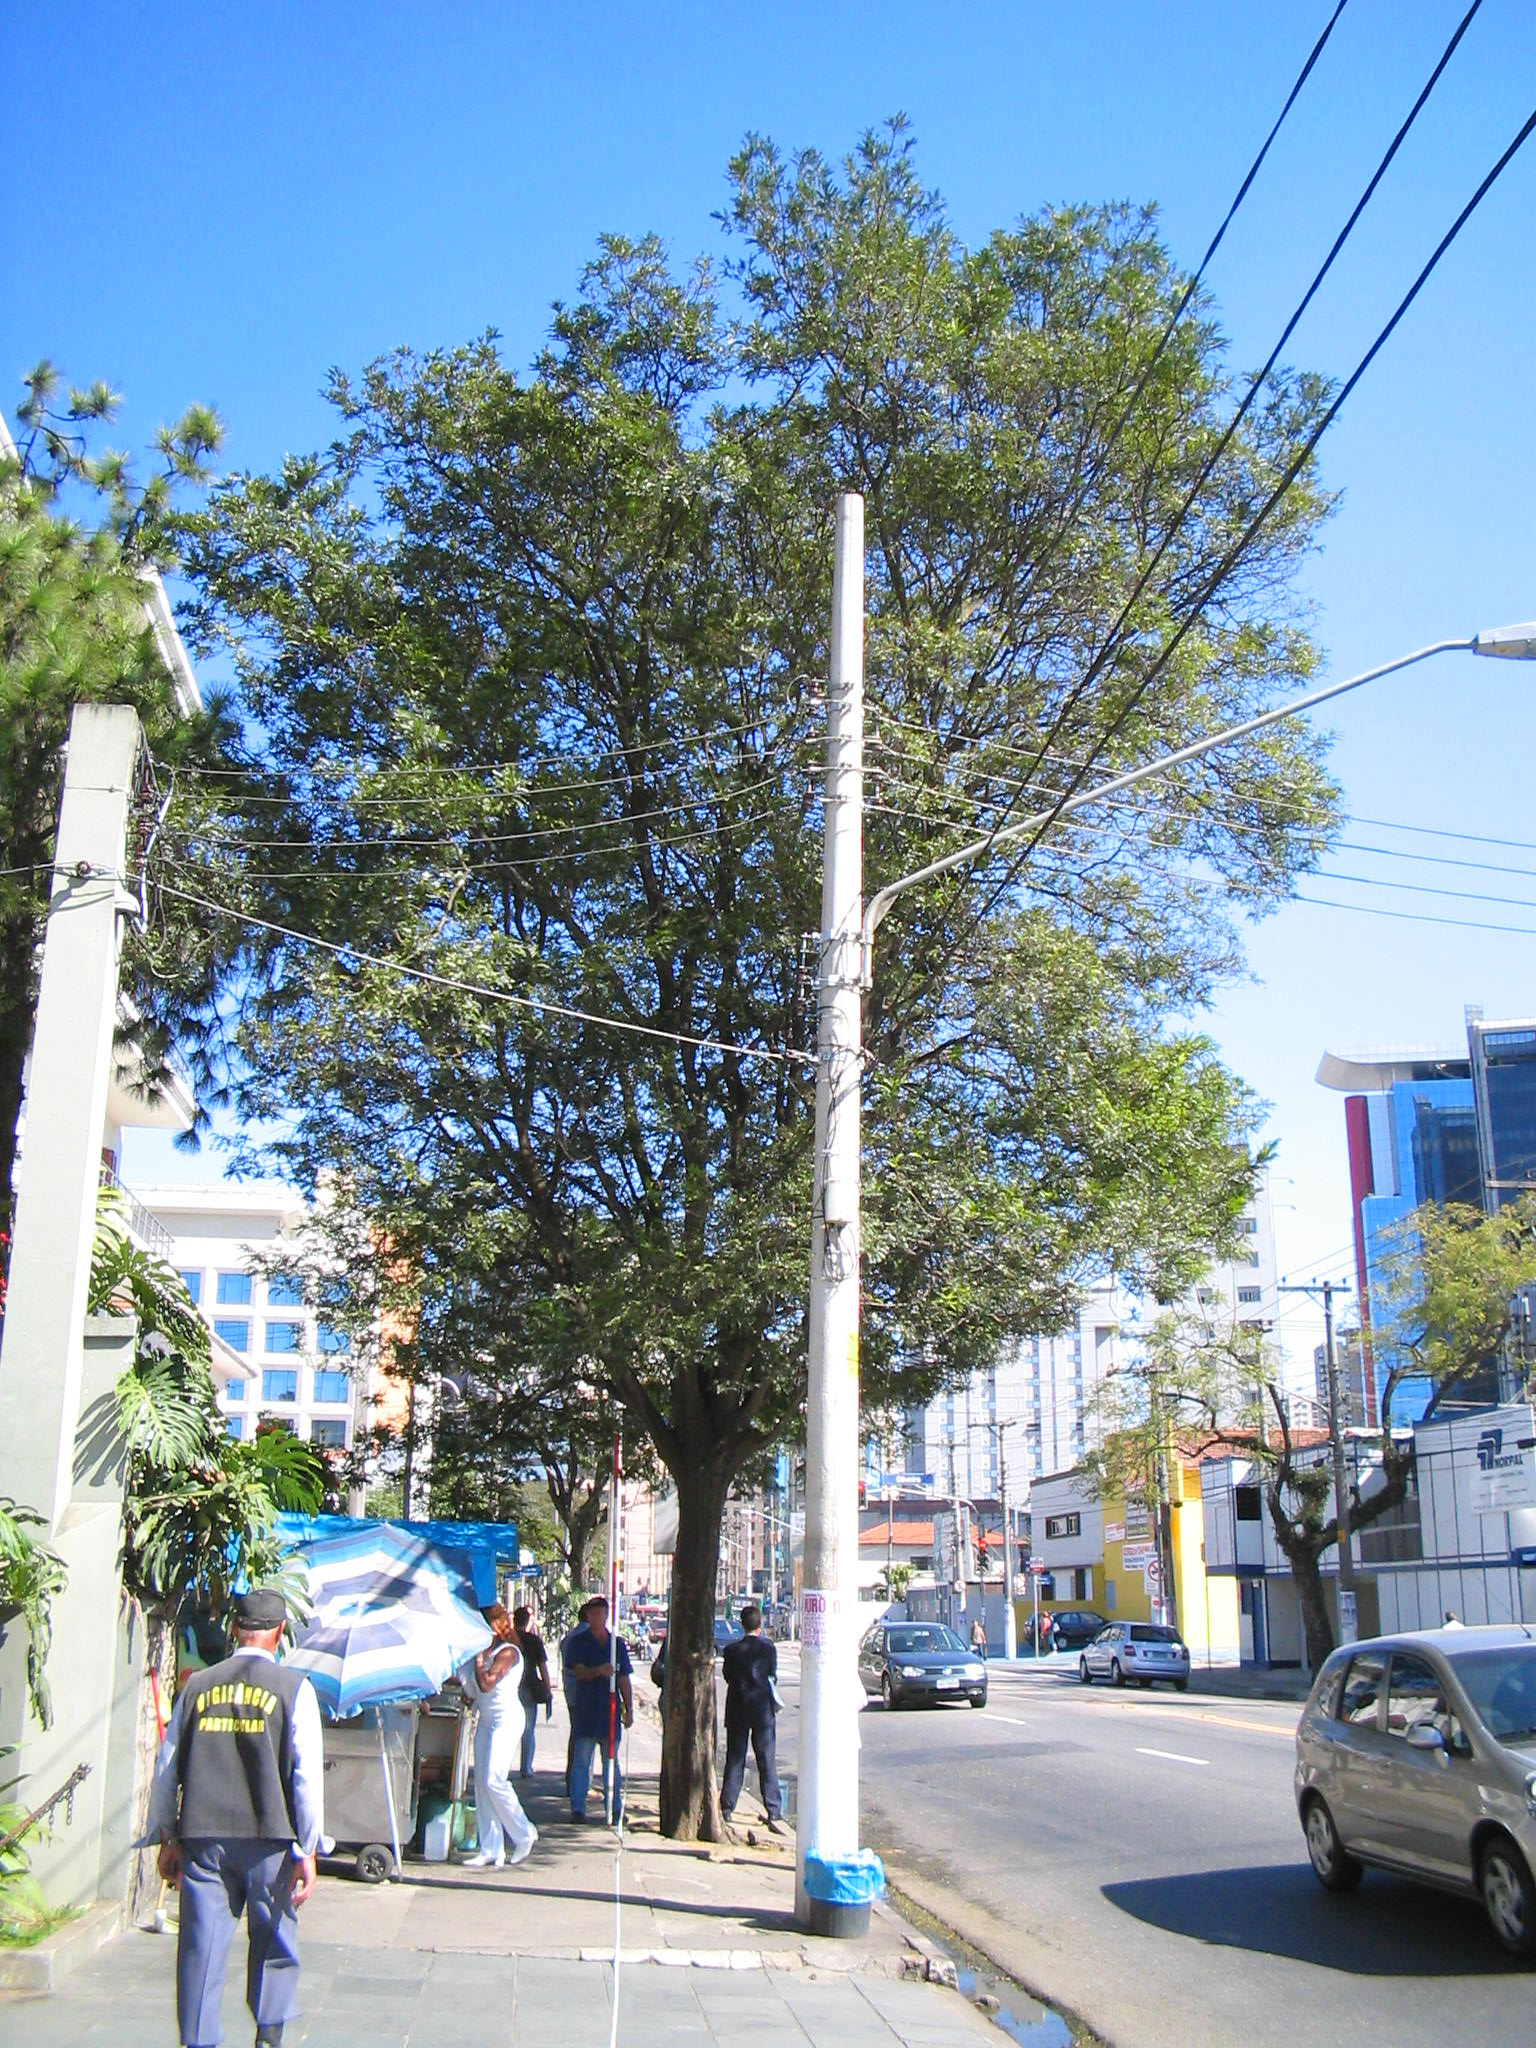crown: (202, 121, 1354, 1467)
stem: (645, 1484, 762, 1842)
stick: (594, 1437, 636, 1824)
tree: (195, 116, 1357, 1846)
